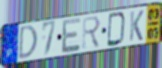7: (41, 19, 57, 60)
D: (18, 24, 39, 62), (106, 11, 127, 48)
E: (61, 16, 82, 55)
K: (129, 9, 145, 43)
R: (82, 15, 102, 50)
